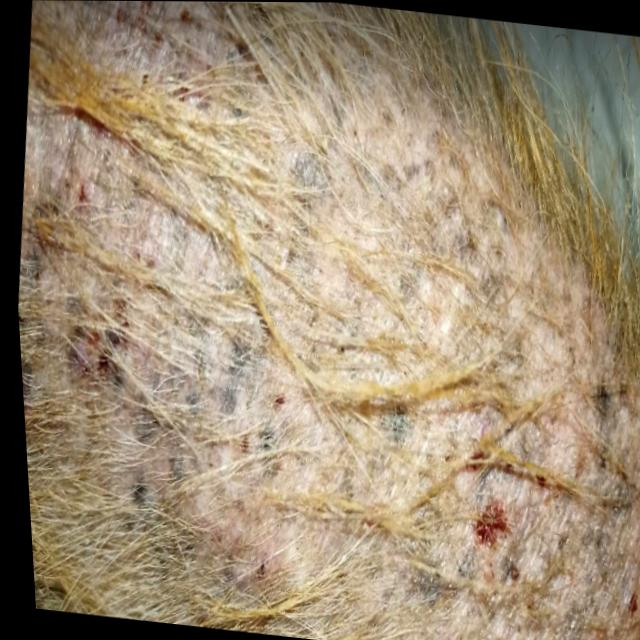demodicosis: (285, 117, 612, 640), (31, 0, 251, 419)
